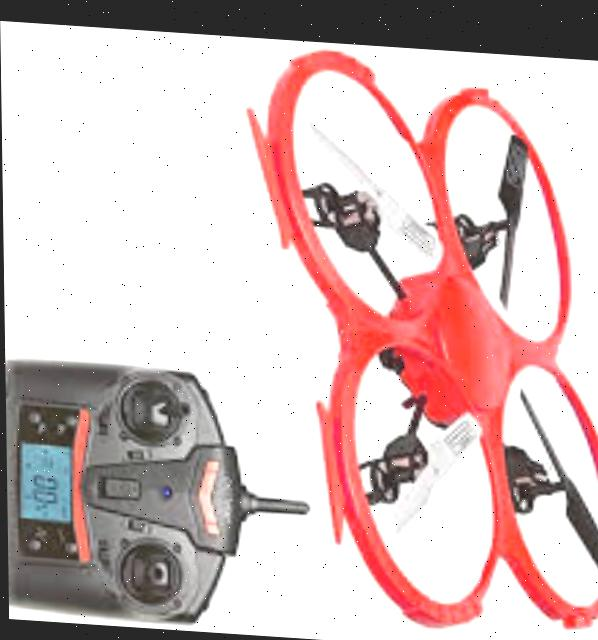drone: (233, 33, 598, 640)
